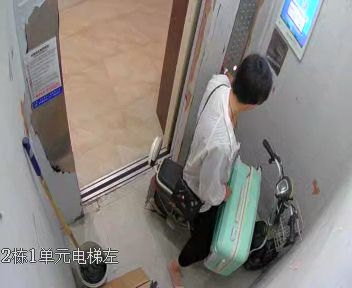Electric-bicycle: (148, 138, 305, 244)
